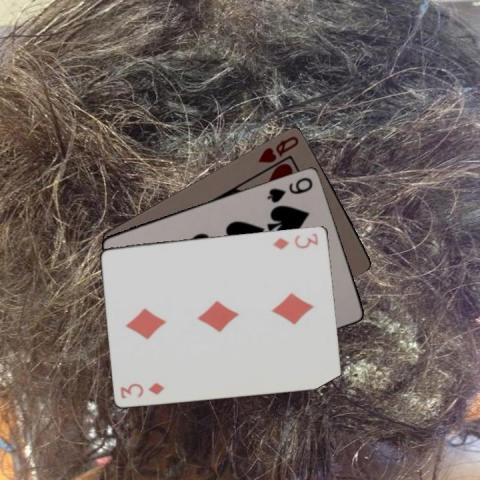3d: (270, 229, 320, 251), (118, 379, 166, 400)
9s: (264, 174, 315, 204)
Qh: (254, 132, 300, 164)
